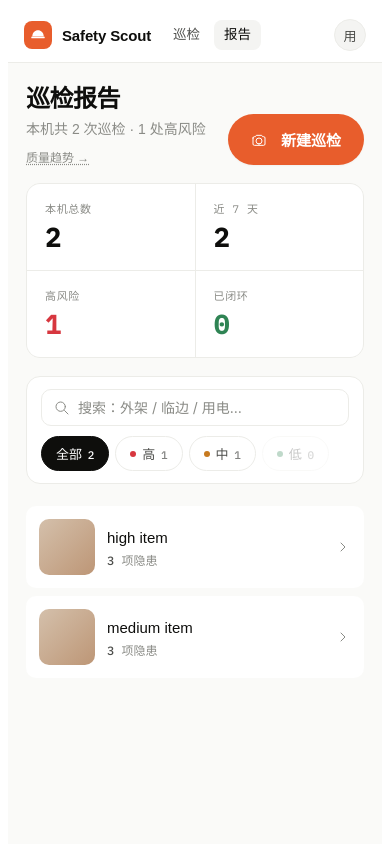
HistoryPage (B8) › filter chip 切换：选 "中" 只看 medium
Expected: the text "high item" is shown, [107,528,168,546]
Expected: the text "medium item" is shown, [107,618,193,636]
Note: 点 "中" chip
Click the tab "中 1" at (222, 454), box [188,436,256,471]
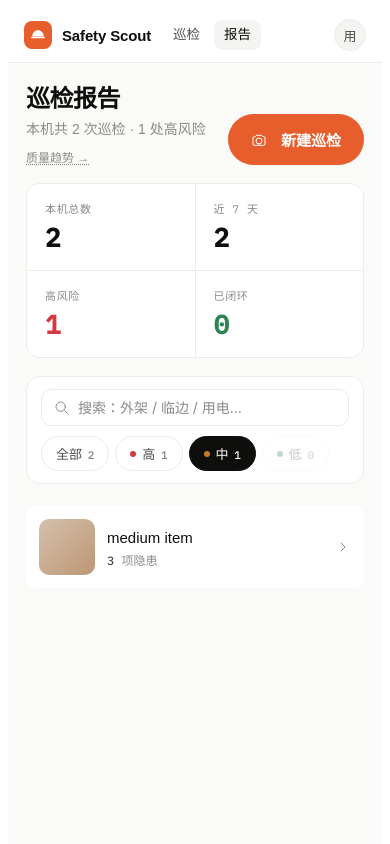
Expected: the text "medium item" is shown, [107,528,193,546]
Now the button "high item" is gone
